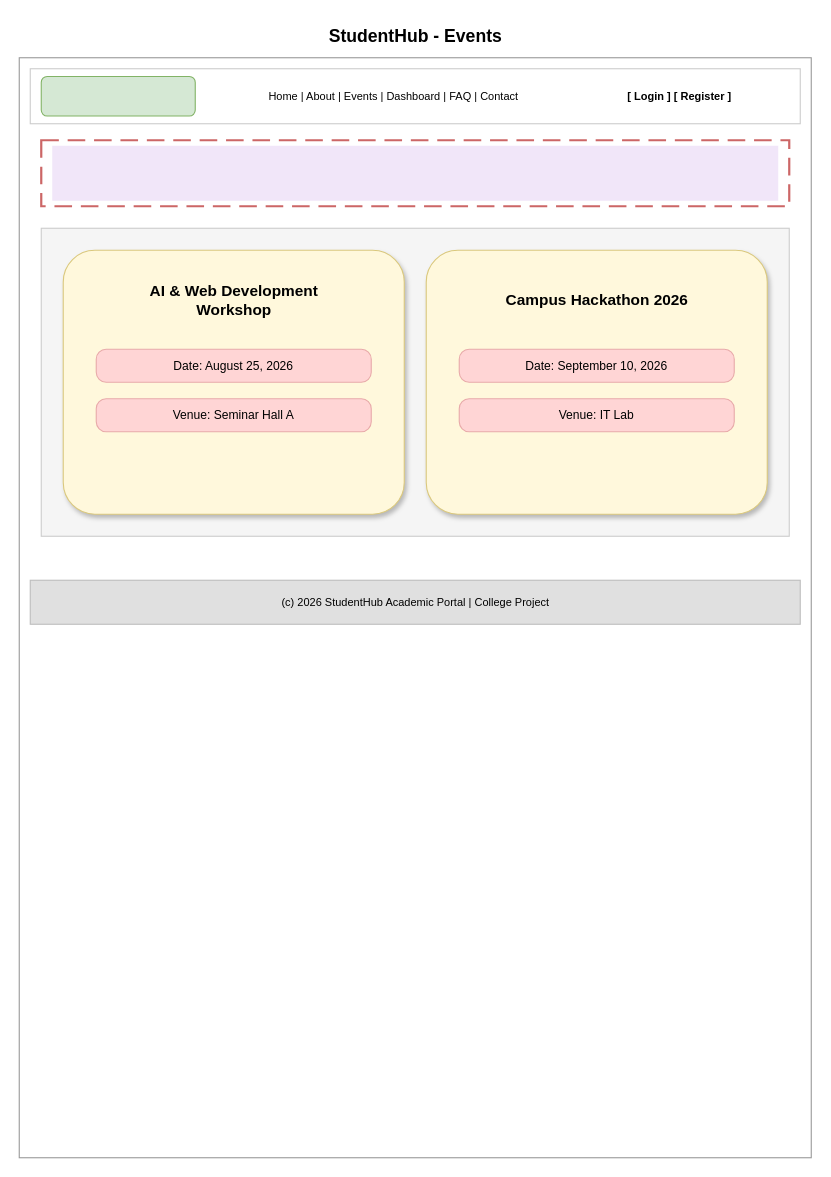
Image size: 831x1177. Some labels were removed from this diagram. The centre of each missing label's shape, as x and y in pixels:
"[ Logo ] StudentHub" belongs at (x=117, y=95).
"Upcoming Events" belongs at (x=415, y=172).
